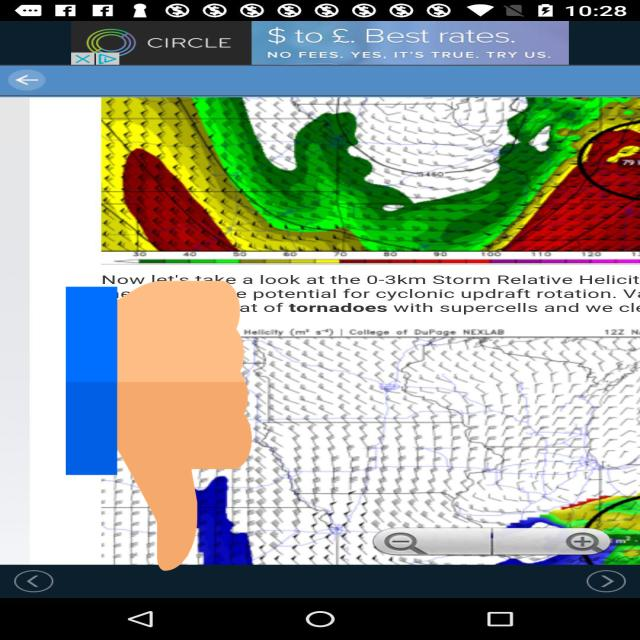obstruction: (66, 274, 252, 578)
